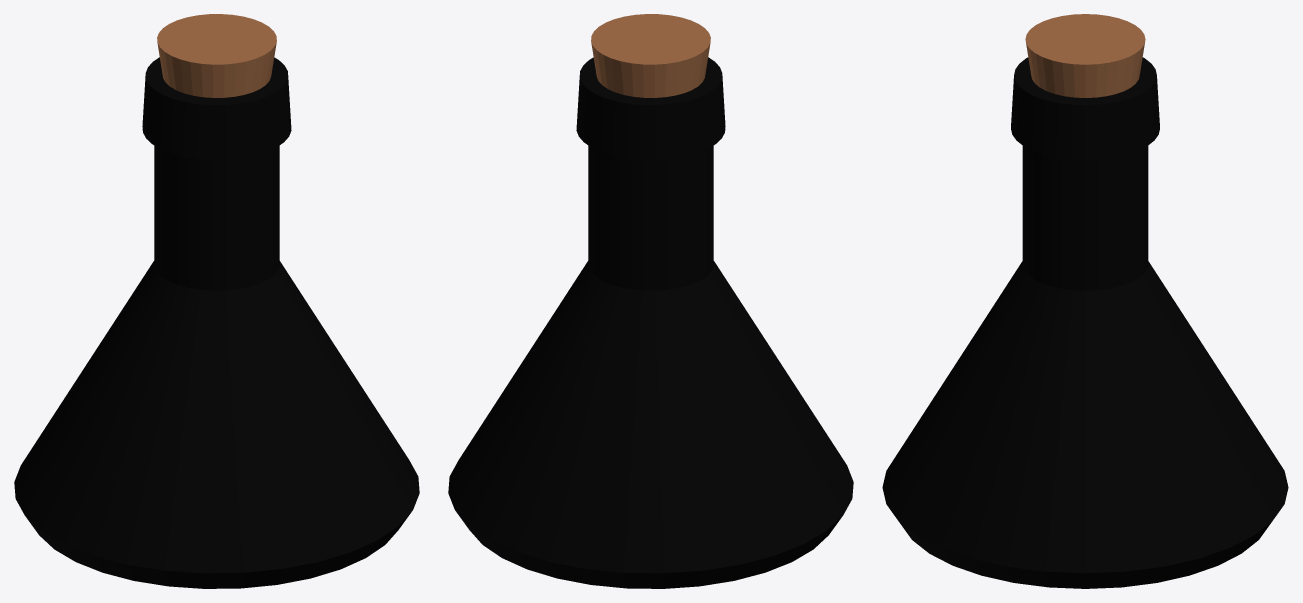
The model's file is ProbetaGrandeVacia.fbx.
The picture shows the model from 3 angles, left to right: view 1: azimuth 30°, elevation 25°; view 2: azimuth 150°, elevation 25°; view 3: azimuth 270°, elevation 25°; orthographic projection.
Parts seen in each view (by area): view 1: Cristal, Corcho; view 2: Cristal, Corcho; view 3: Cristal, Corcho.
Part boxes in pixels (left/top/right/bottom): Cristal: left=14, top=57, right=419, bottom=588; Corcho: left=157, top=14, right=276, bottom=97; Cristal: left=448, top=57, right=853, bottom=588; Corcho: left=591, top=14, right=710, bottom=97; Cristal: left=882, top=57, right=1288, bottom=588; Corcho: left=1025, top=14, right=1145, bottom=97.
Bounding box in the file's own units: 189 × 241 × 189.
